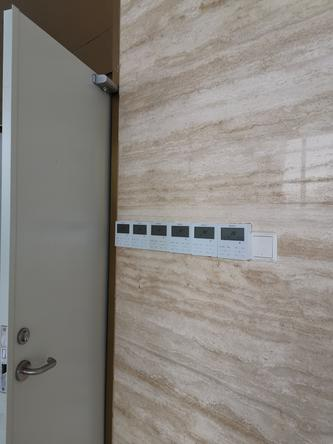switch: (252, 233, 276, 260)
